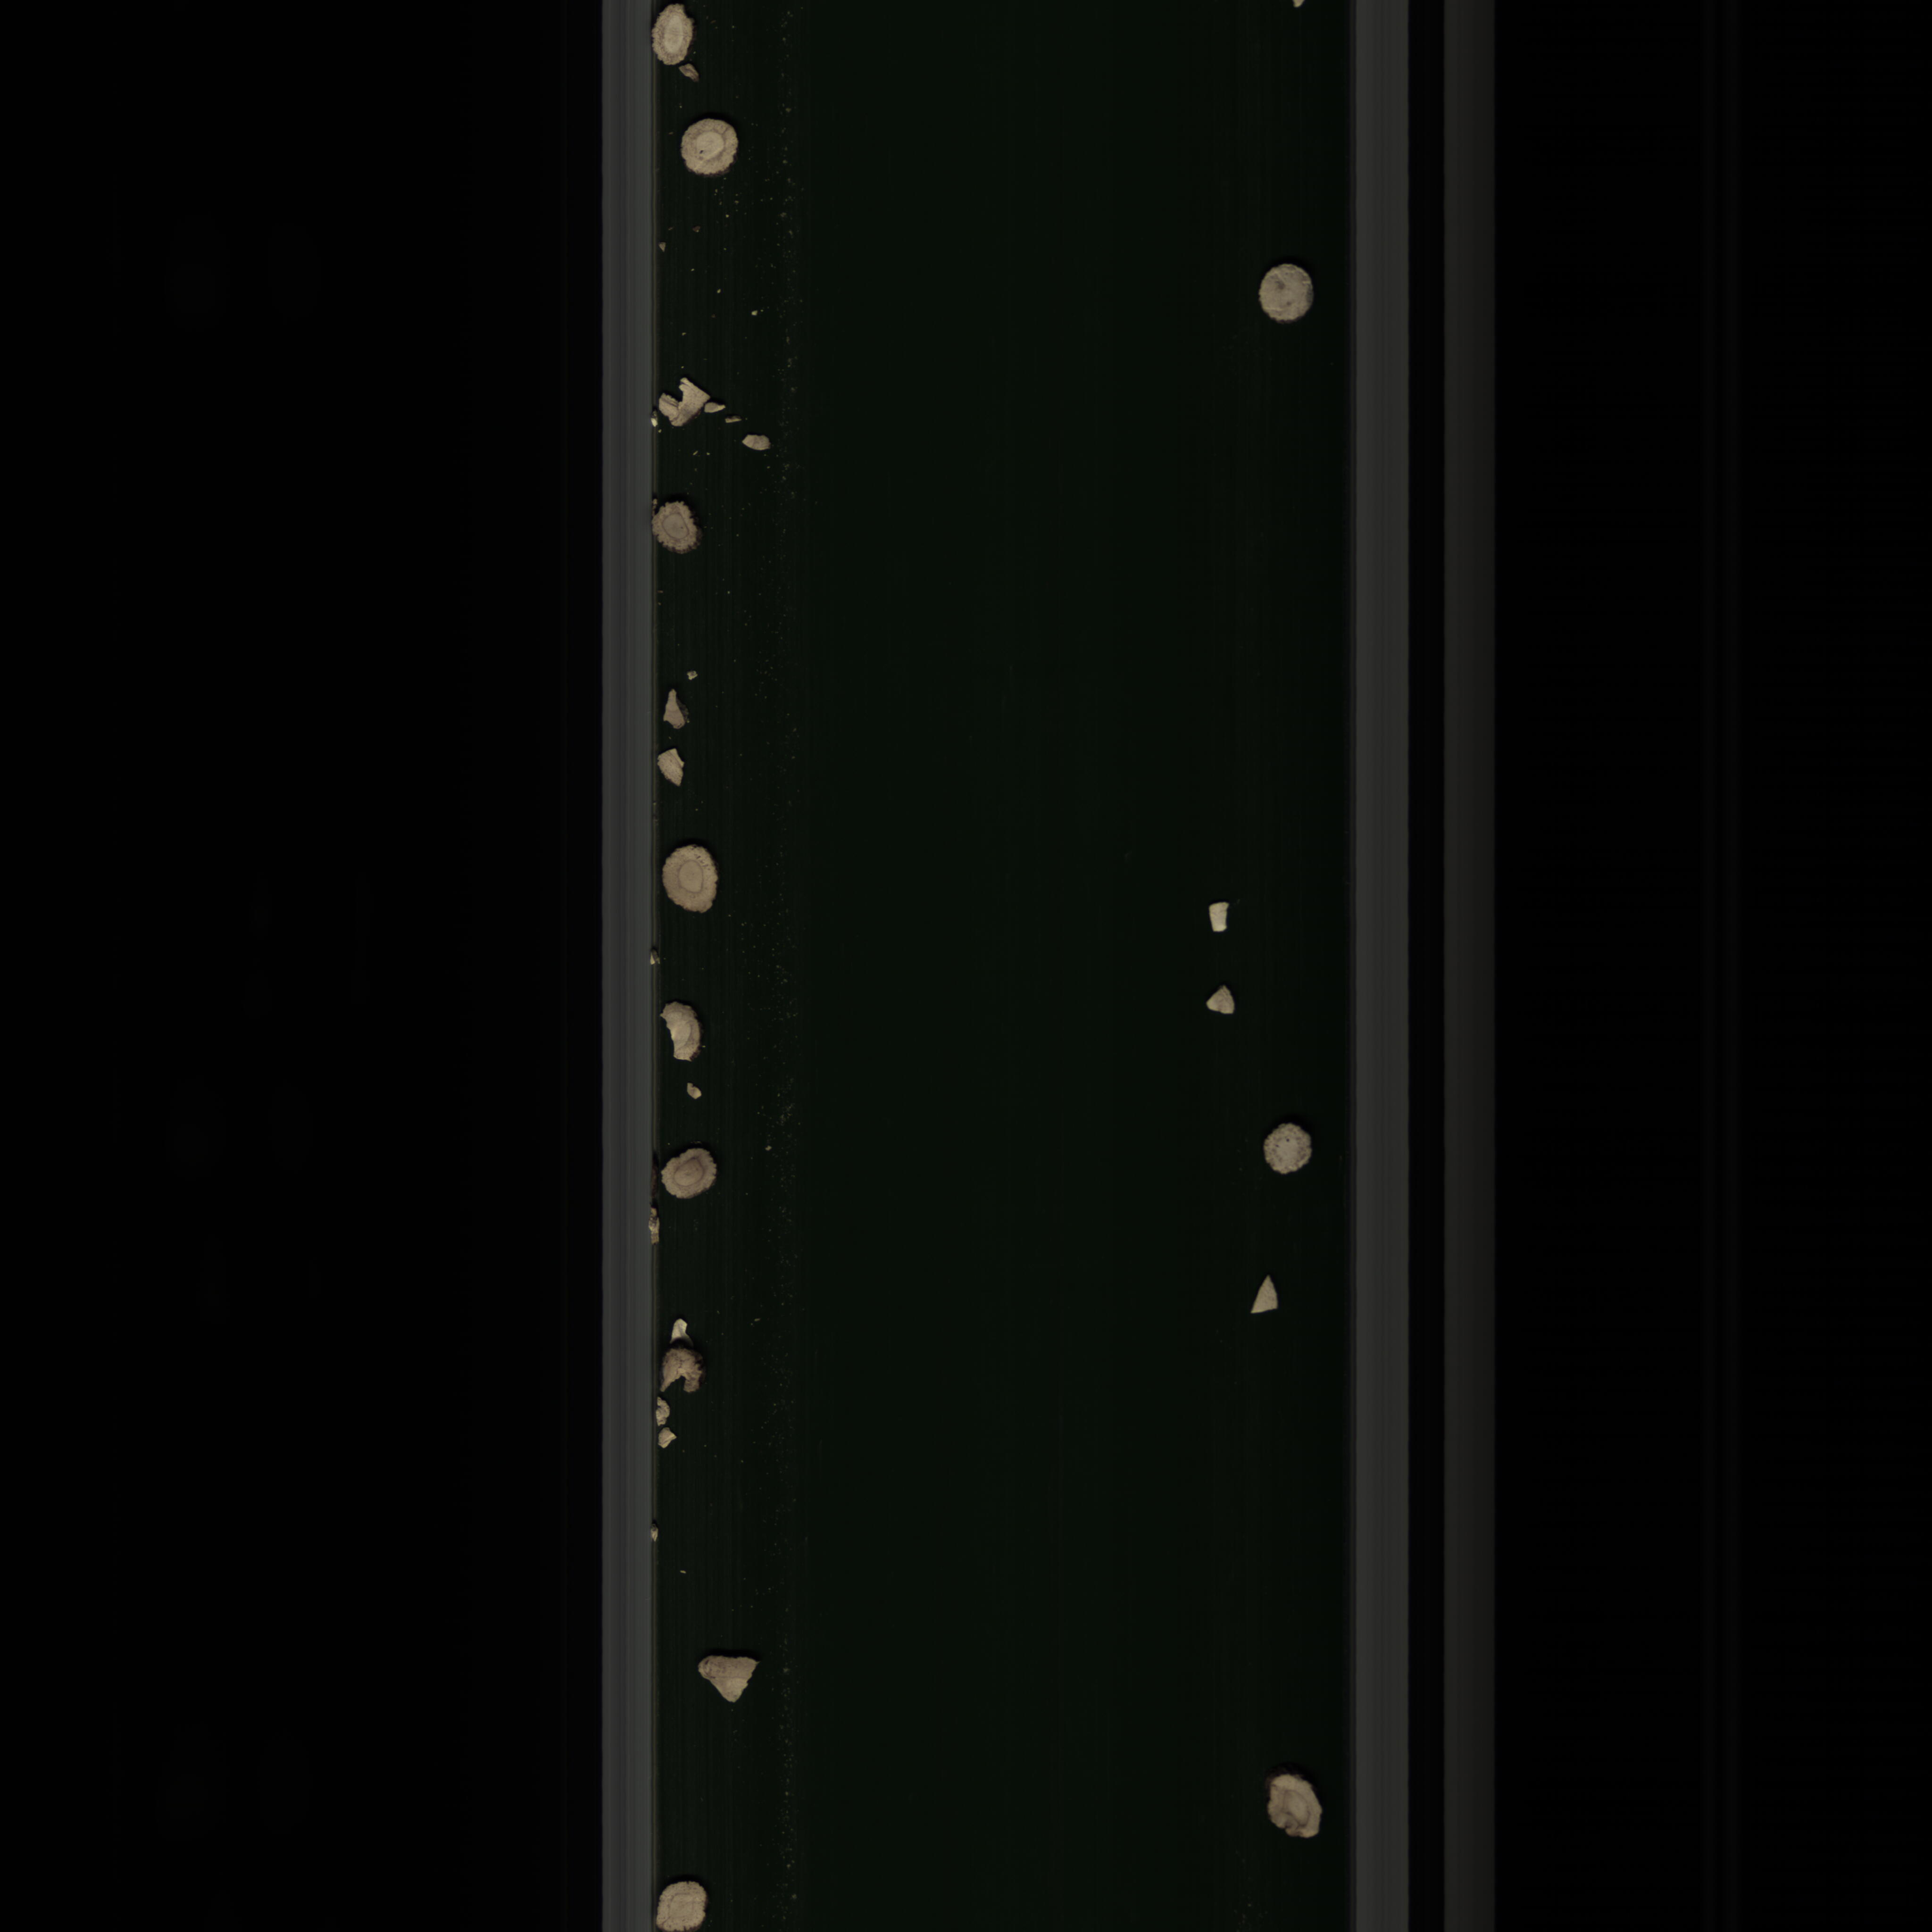debris: (692, 1649, 766, 1707), (656, 372, 727, 430), (656, 998, 708, 1070), (663, 1311, 704, 1396), (1242, 1272, 1290, 1316), (655, 745, 694, 791), (658, 681, 688, 736), (1201, 895, 1235, 939), (1201, 978, 1240, 1016)
moldy: (646, 499, 702, 557)
